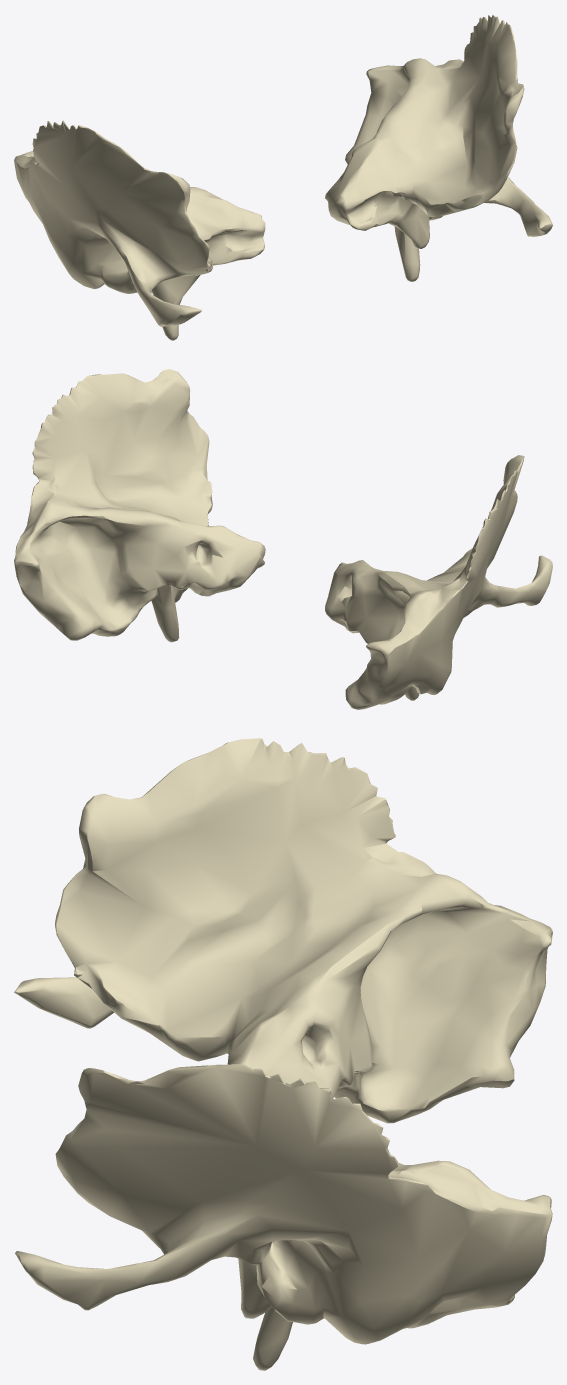
Rendered from temporal_bone.glb.
3 renders of one model, top to bottom at view 1: azimuth 30°, elevation 25°; view 2: azimuth 150°, elevation 25°; view 3: azimuth 270°, elevation 25°, orthographic. The views are drawn at different scales.
Parts seen in each view (by area): view 1: temporal bone; view 2: temporal bone; view 3: temporal bone.
Boxes of the visible parts, x1,y1,x2,y2 form: temporal bone: (14, 14, 552, 340); temporal bone: (14, 369, 552, 709); temporal bone: (14, 738, 552, 1370).
Size of the model in its own units: 0.1465 by 0.076 by 0.0987.
